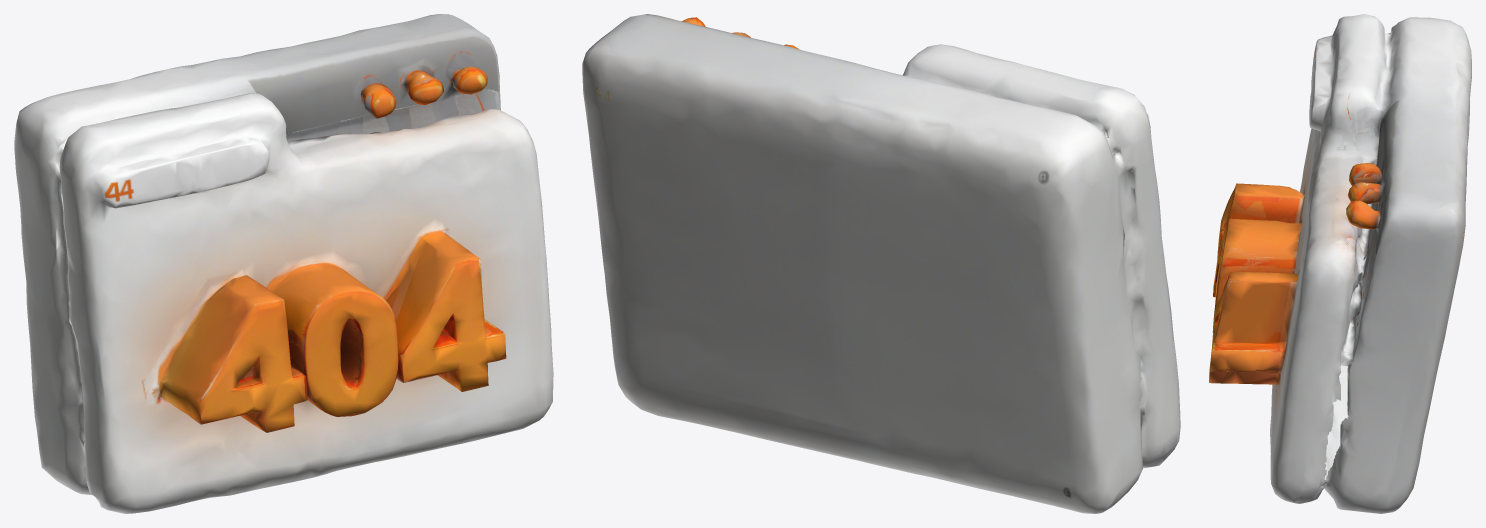
Rendered from page_not_found.glb.
3 views of the same model, side by side, from view 1: azimuth 30°, elevation 25°; view 2: azimuth 150°, elevation 25°; view 3: azimuth 270°, elevation 25° (orthographic). The views are drawn at different scales.
Bounding box in the file's own units: 1.99 × 1.59 × 1.15.
Materials: 1 (1 with a texture image).
